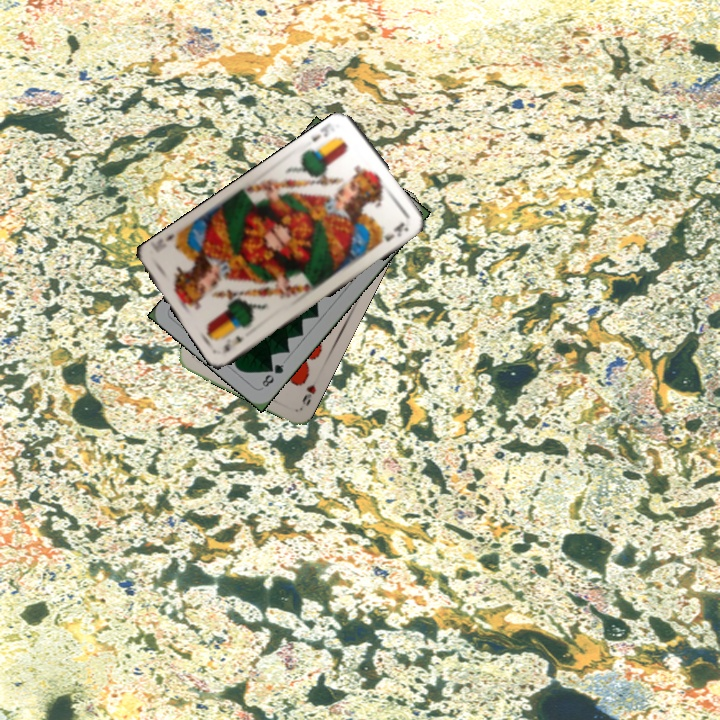EK: (308, 120, 334, 144), (219, 332, 246, 355)
G8: (258, 360, 287, 390)
H9: (298, 380, 319, 408)
